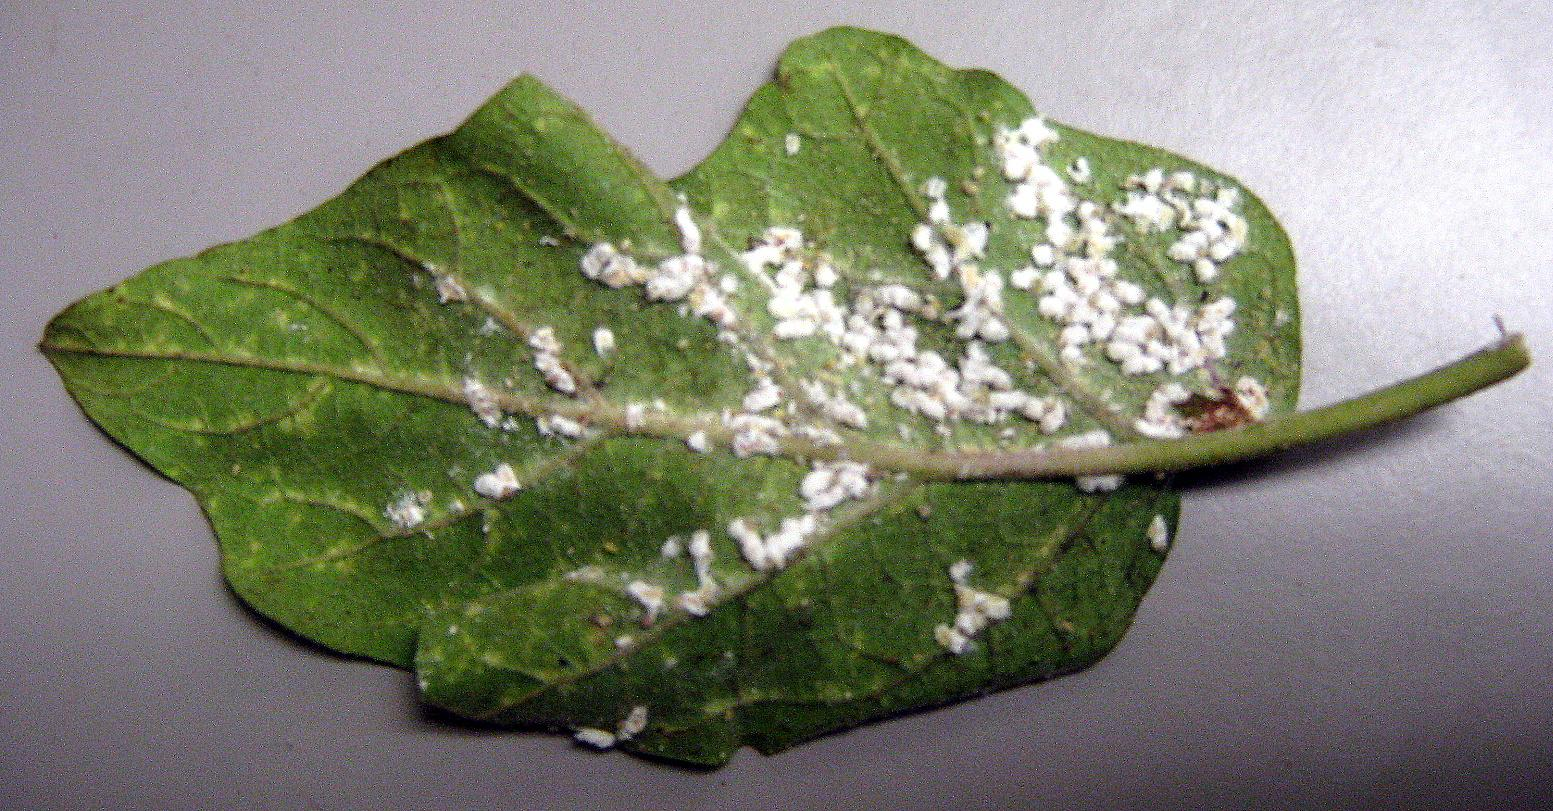pseudococcidae: (338, 77, 1299, 766)
